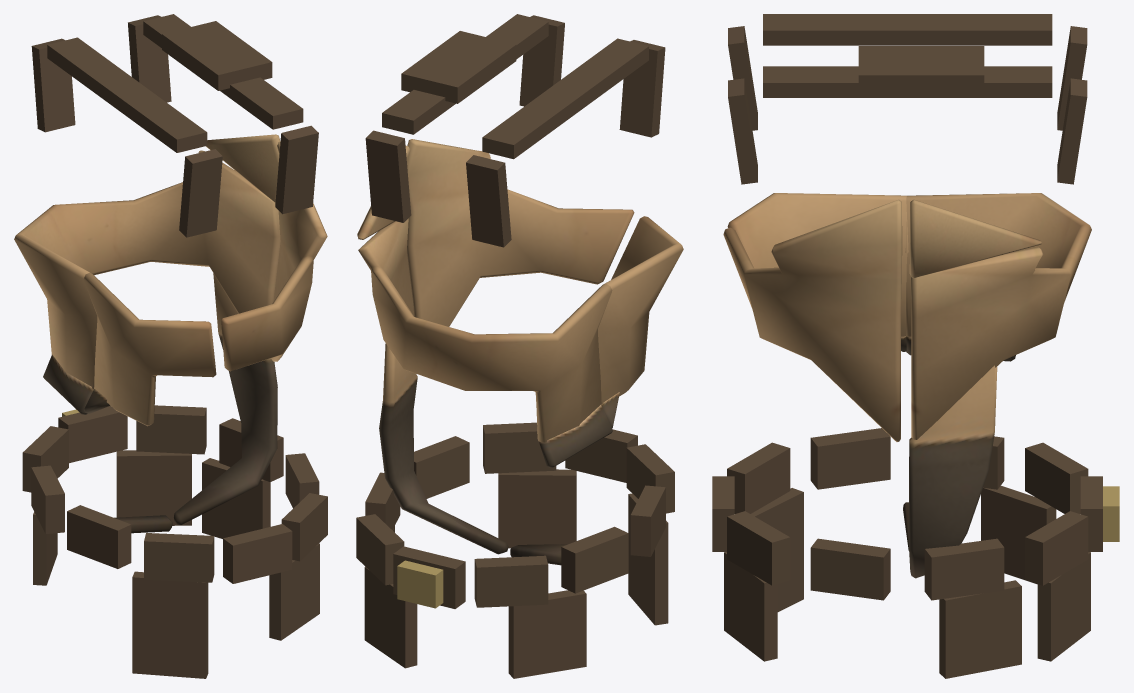
Rendered from derived_vest.glb.
3 renders of one model, left to right at view 1: azimuth 30°, elevation 25°; view 2: azimuth 150°, elevation 25°; view 3: azimuth 270°, elevation 25°, orthographic. The views are drawn at different scales.
Parts seen in each view (by area): view 1: DerivedVest; view 2: DerivedVest; view 3: DerivedVest.
Boxes of the visible parts, x1,y1,x2,y2 form: DerivedVest: [14, 14, 327, 678]; DerivedVest: [356, 14, 683, 678]; DerivedVest: [712, 14, 1119, 678].
Bounding box in the file's own units: 0.2203 × 0.4845 × 0.2921.
3 materials, 1 textured.
